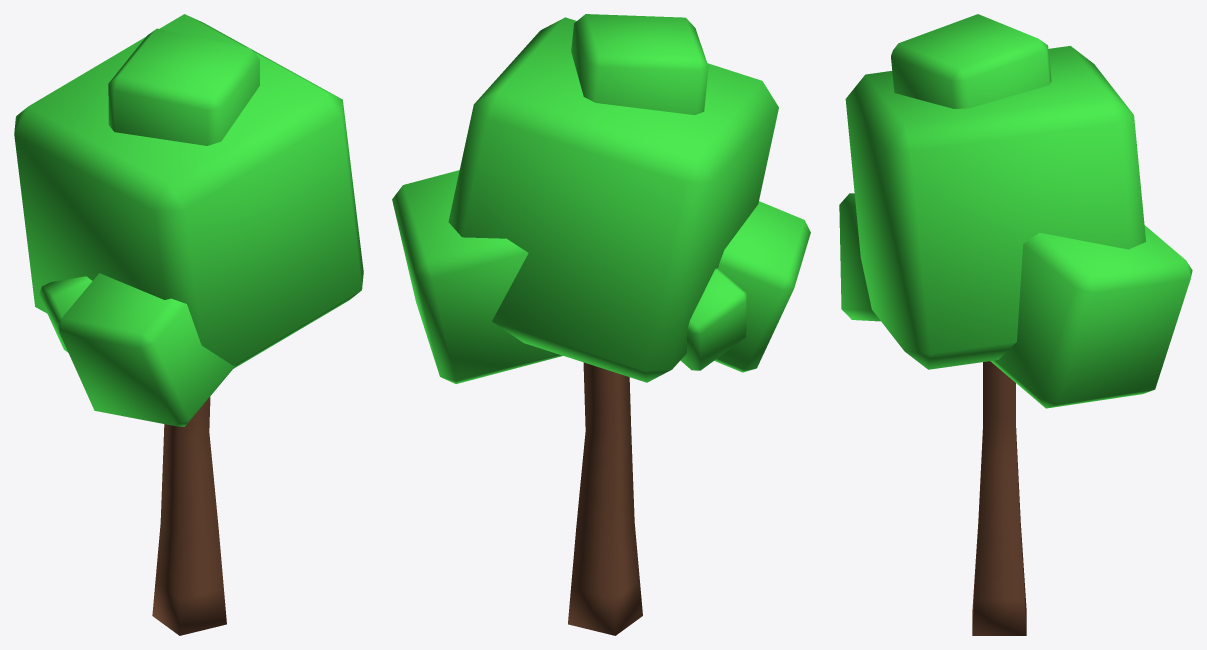
File: tree_2.fbx
3 renders of one model, left to right at view 1: azimuth 30°, elevation 25°; view 2: azimuth 150°, elevation 25°; view 3: azimuth 270°, elevation 25°, orthographic.
Parts seen in each view (by area): view 1: Plane.024; view 2: Plane.024; view 3: Plane.024.
Boxes of the visible parts, left/top/right/bottom form: Plane.024: left=14, top=14, right=363, bottom=635; Plane.024: left=392, top=14, right=810, bottom=635; Plane.024: left=839, top=14, right=1192, bottom=635.
Size of the model in its own units: 788 by 1351 by 747.
